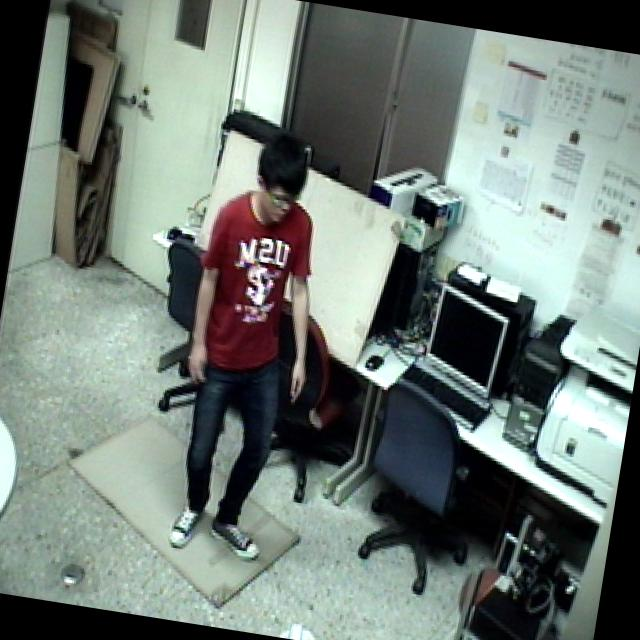stand: (134, 120, 344, 583)
